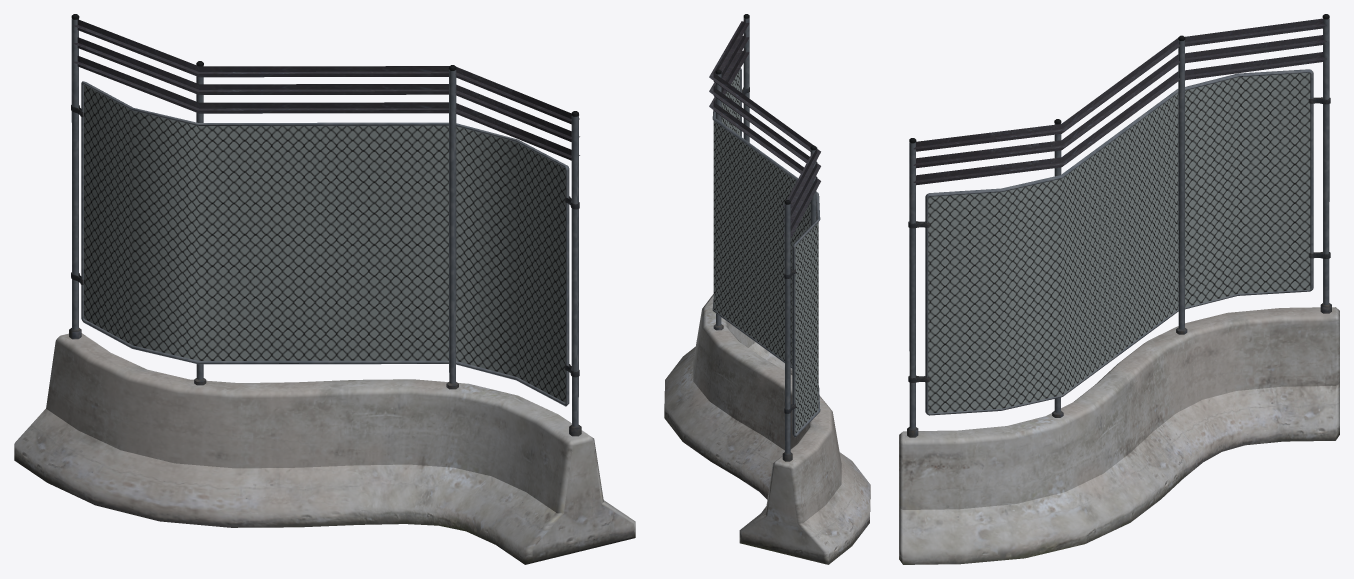
The model's file is Fence_C_D.fbx.
3 renders of one model, left to right at view 1: azimuth 30°, elevation 25°; view 2: azimuth 150°, elevation 25°; view 3: azimuth 270°, elevation 25°, orthographic. The views are drawn at different scales.
Visible parts, largest first — view 1: Fence_C_D_Wire_LOD0, Fence_C_D_LOD0; view 2: Fence_C_D_LOD0, Fence_C_D_Wire_LOD0; view 3: Fence_C_D_Wire_LOD0, Fence_C_D_LOD0.
Part boxes in pixels (x1,y1,x2,y2): Fence_C_D_Wire_LOD0: (73,19,579,402); Fence_C_D_LOD0: (14,14,635,564); Fence_C_D_LOD0: (664,14,870,564); Fence_C_D_Wire_LOD0: (709,19,820,433); Fence_C_D_Wire_LOD0: (913,18,1326,413); Fence_C_D_LOD0: (899,14,1339,564).
Size of what is drawn, in the model's own units: 280 by 302 by 300.
